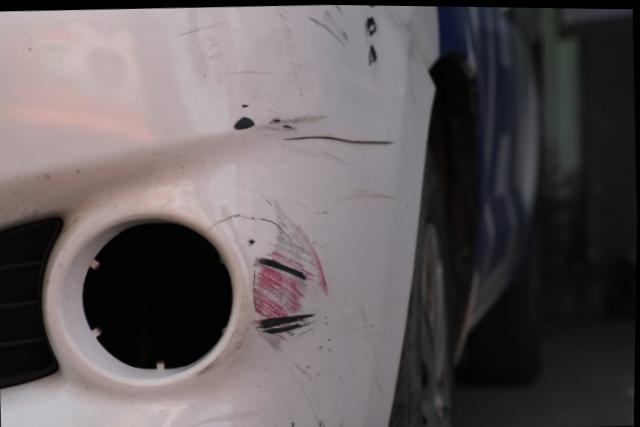scratch: (192, 4, 404, 170), (247, 203, 340, 353)
